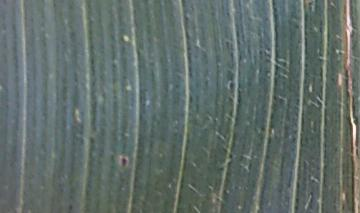tarspot: (119, 155, 129, 167), (226, 79, 235, 91), (336, 48, 345, 57), (227, 151, 234, 159), (67, 203, 74, 211), (183, 13, 190, 20), (218, 165, 225, 172), (215, 197, 220, 202)
